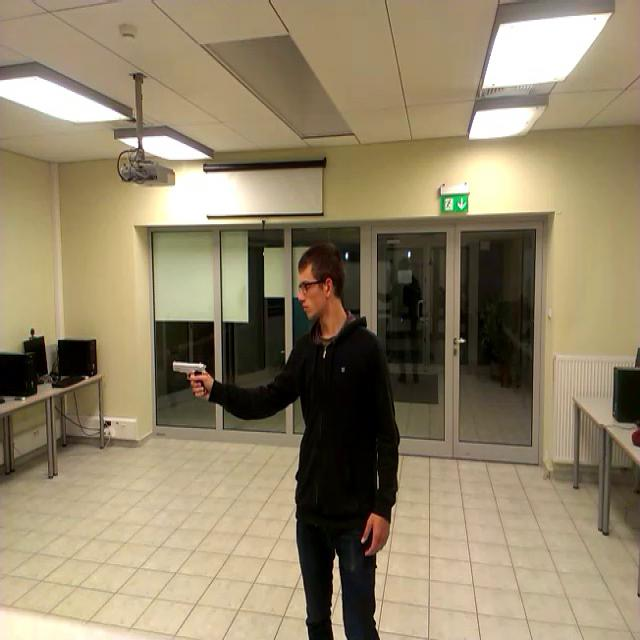handgun: (165, 351, 218, 414)
